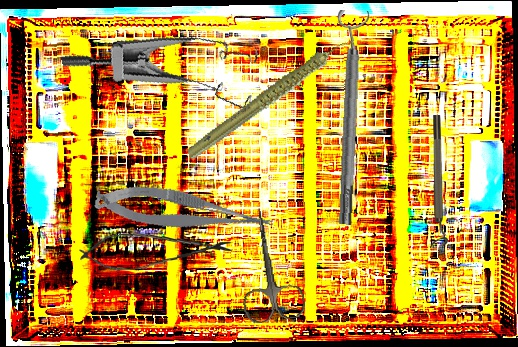Fixation Ring: (325, 9, 373, 226), (431, 115, 448, 246)
Handpiece: (170, 36, 373, 162)
Iris Scissors: (230, 203, 307, 325)
Micro Scissor: (92, 172, 276, 253), (75, 226, 236, 274)
Speculum: (59, 7, 271, 150)
